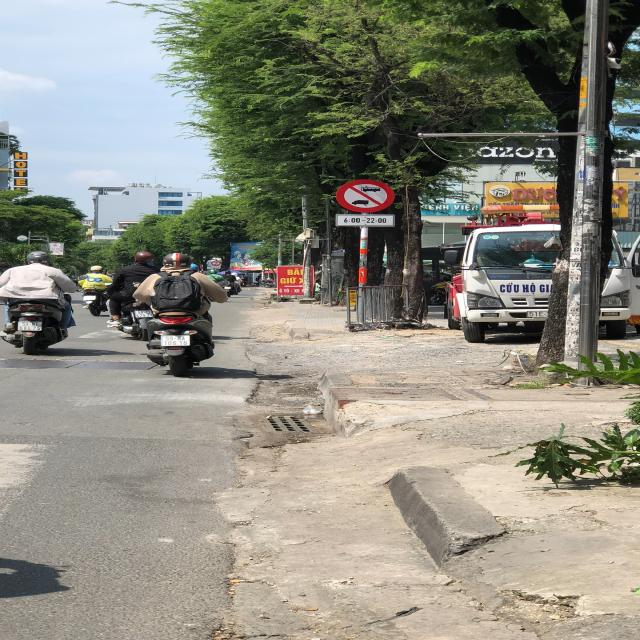Bien bao cam xe oto khach va xe oto tai: (335, 177, 397, 212)
